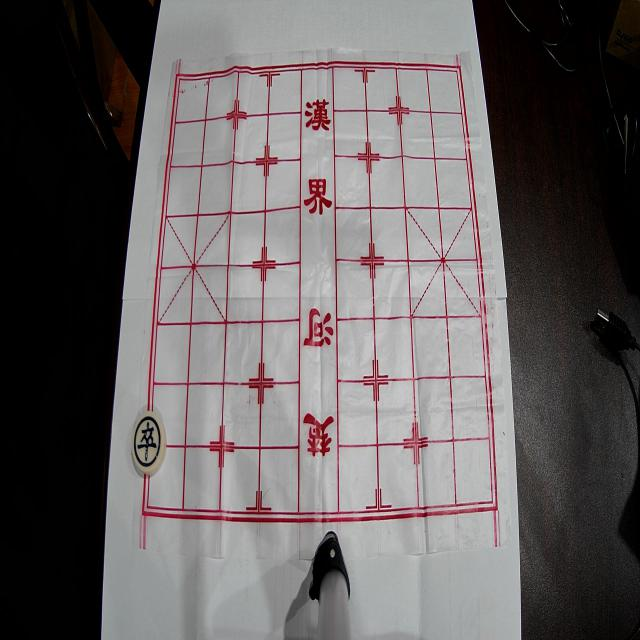black-soldier: (131, 412, 166, 474)
